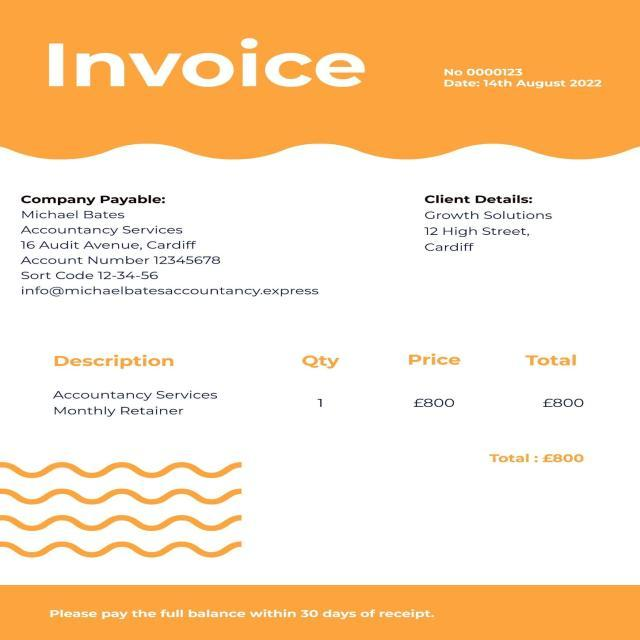ROI: (36, 342, 614, 426), (13, 195, 326, 302), (42, 40, 370, 98), (411, 186, 571, 264), (44, 607, 472, 628), (436, 62, 606, 96), (488, 449, 598, 466)
